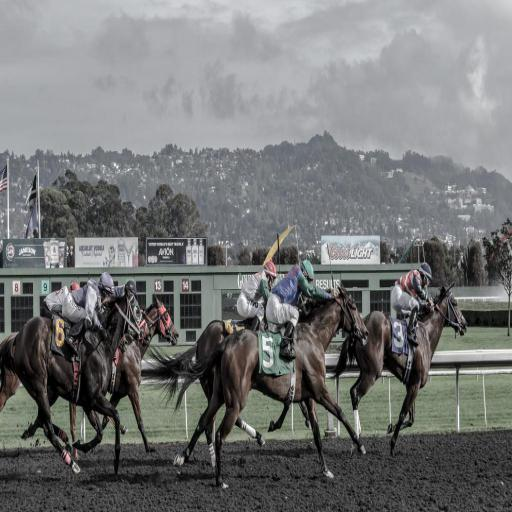horse: (172, 282, 367, 490), (136, 291, 332, 480), (8, 288, 152, 477), (19, 294, 179, 452), (332, 284, 468, 458), (0, 332, 128, 436)
